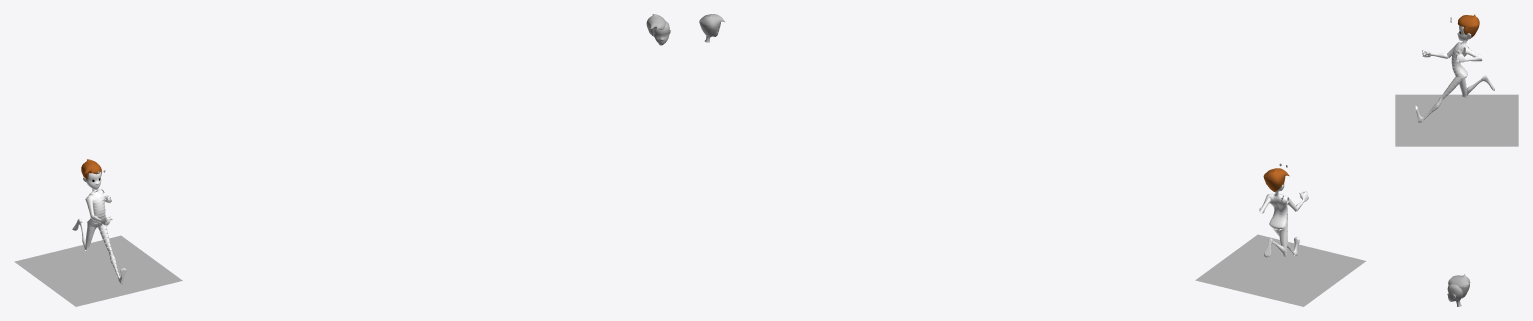
Rendered from run.gltf.
3 views of the same model, side by side, from view 1: azimuth 30°, elevation 25°; view 2: azimuth 150°, elevation 25°; view 3: azimuth 270°, elevation 25° (orthographic). The views are drawn at different scales.
Parts seen in each view (by area): view 1: pPlane1; view 2: pPlane1; view 3: pPlane1, stw_head_a_jnt_proxy_hair_geo, stw_HEAD_LYR_01_DEFORM_grp, stw_HEAD_LYR_01_BLINK_rt_eye_loc_grp, stw_head_a_jnt_proxy_head_geo.
Part boxes in pixels (box(x1,y1,x2,y2)): pPlane1: box(14, 235, 182, 306); pPlane1: box(1195, 234, 1365, 306); pPlane1: box(1395, 94, 1518, 146); stw_head_a_jnt_proxy_hair_geo: box(1457, 14, 1479, 37); stw_HEAD_LYR_01_DEFORM_grp: box(1448, 274, 1470, 298); stw_HEAD_LYR_01_BLINK_rt_eye_loc_grp: box(1447, 284, 1463, 306); stw_head_a_jnt_proxy_head_geo: box(1457, 26, 1471, 40).
Bounding box in the file's own units: 1004 × 181 × 172.
